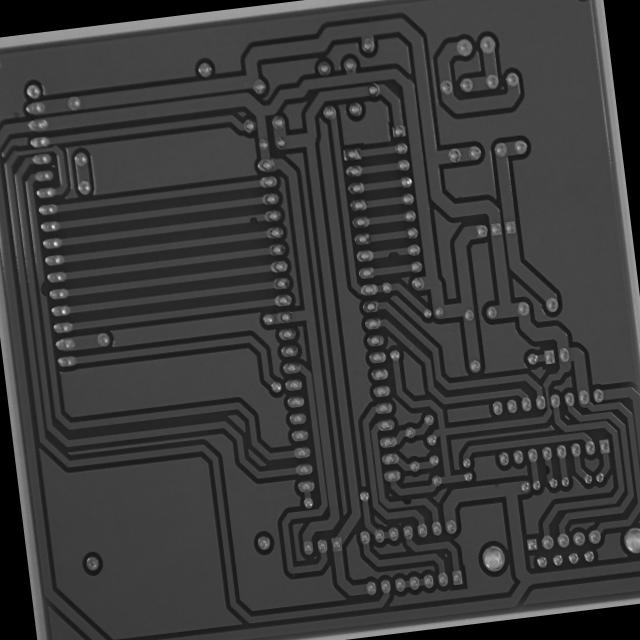mouse_bite: (34, 276, 50, 300), (384, 244, 402, 264), (244, 210, 260, 227), (541, 462, 555, 478), (400, 495, 414, 510)
